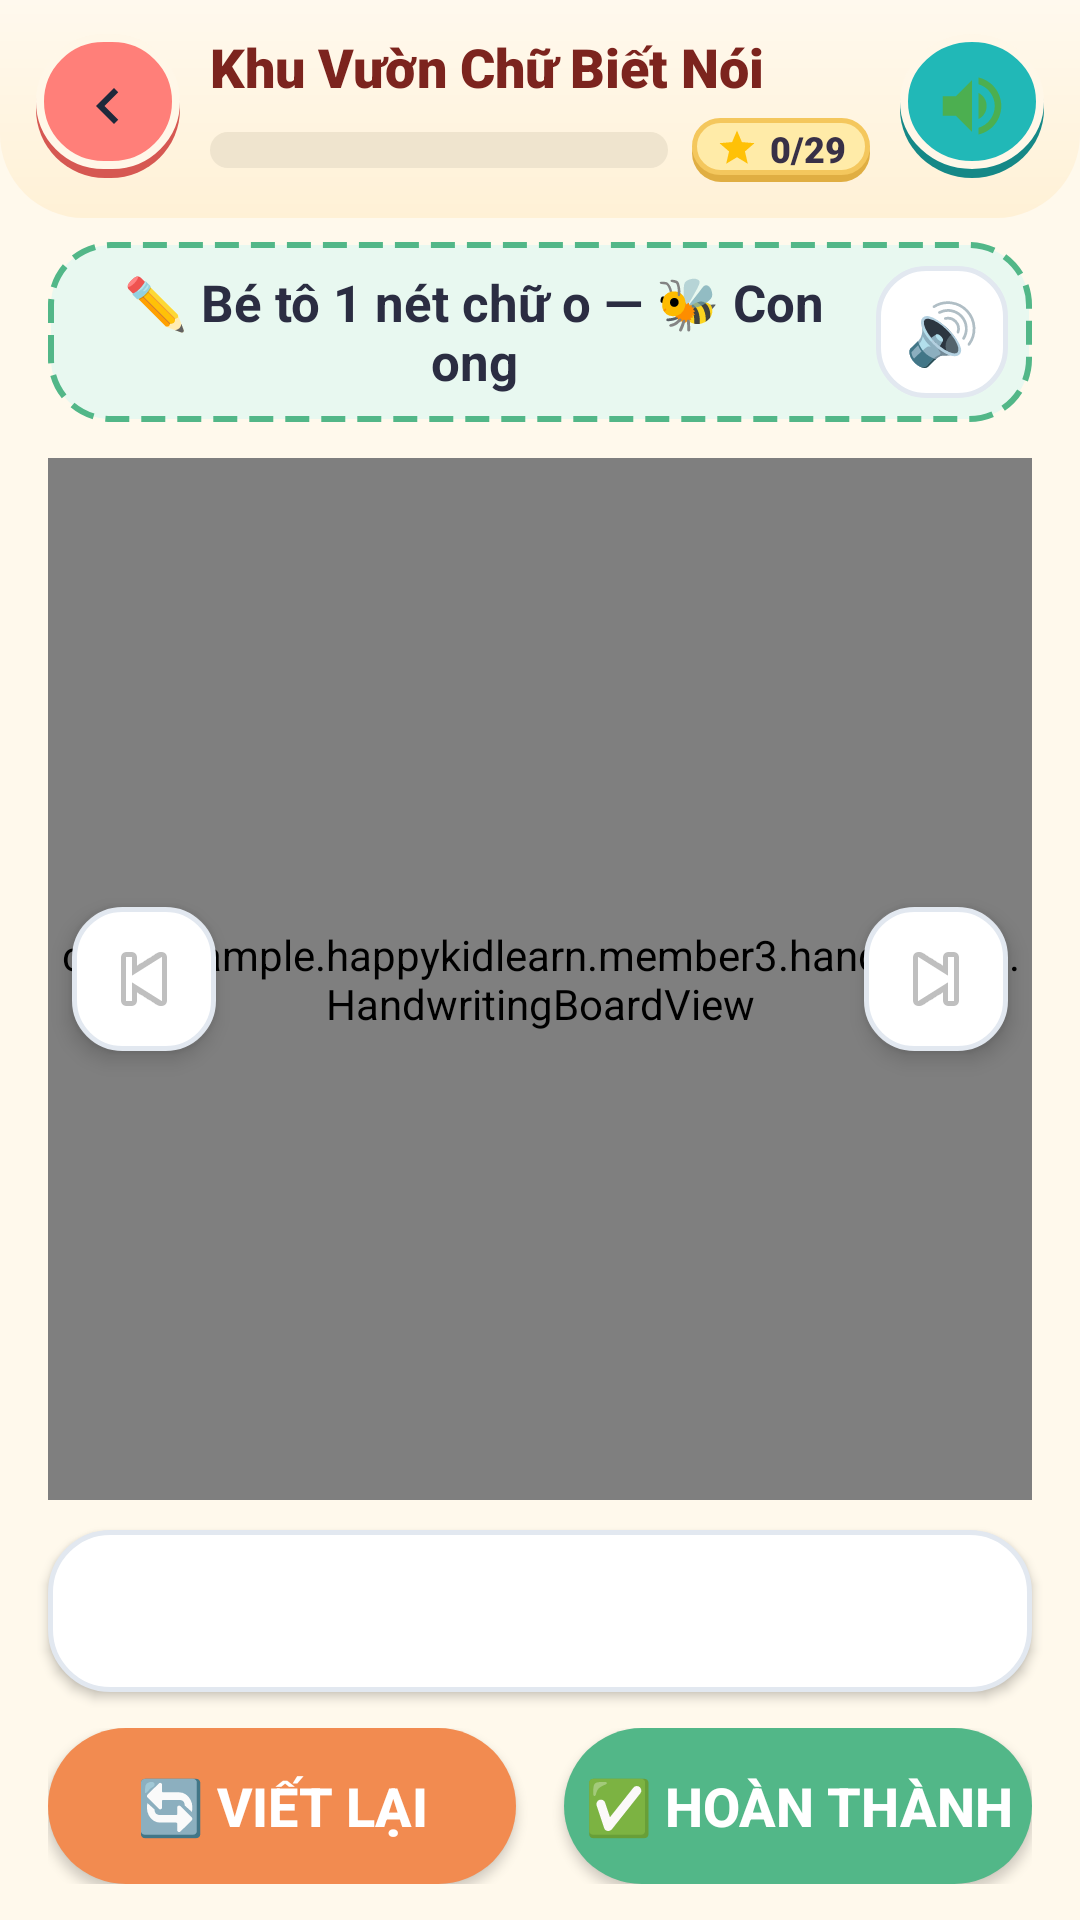

Icon bounding boxes for this 1080px×1920px phone screenshot, format (left=x1, top=y1, right=x2, bottom=y2):
Bật hoặc tắt âm thanh ứng dụng: (left=900, top=42, right=1044, bottom=178)
Quay lại: (left=36, top=42, right=180, bottom=178)
star: (left=720, top=131, right=754, bottom=164)
Tiếp theo: (left=864, top=907, right=1008, bottom=1051)
Trước: (left=72, top=907, right=216, bottom=1051)
